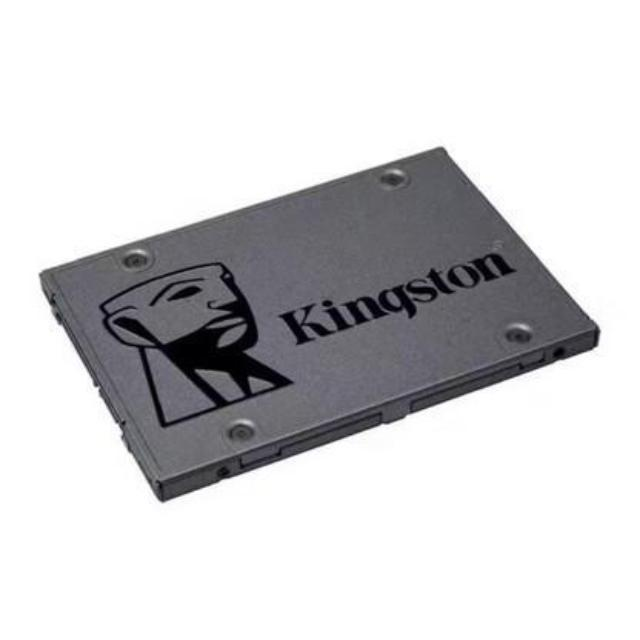DISK: (33, 138, 602, 514)
